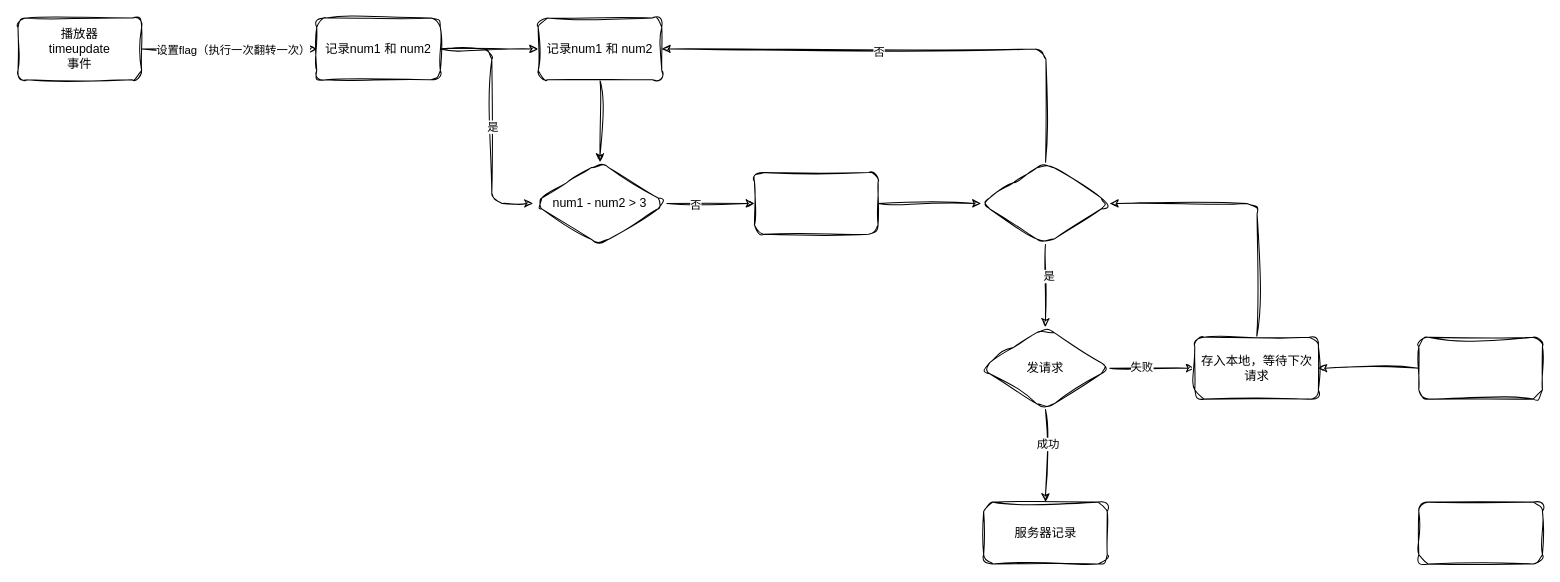
The diagram is 1560 pixels wide and 582 high, and some of its shapes have lost their labels. Each missing label, with the centre of its shape:
"异常退出无法存储时长（直接清除微信后台，直接关闭网页）" goes at [1480,532].
"正常退出（返回页面）" goes at [1480,367].
"记录时长 % 10 = 0" goes at [1045,203].
"记录时长 += num1 - num2" goes at [815,202].
